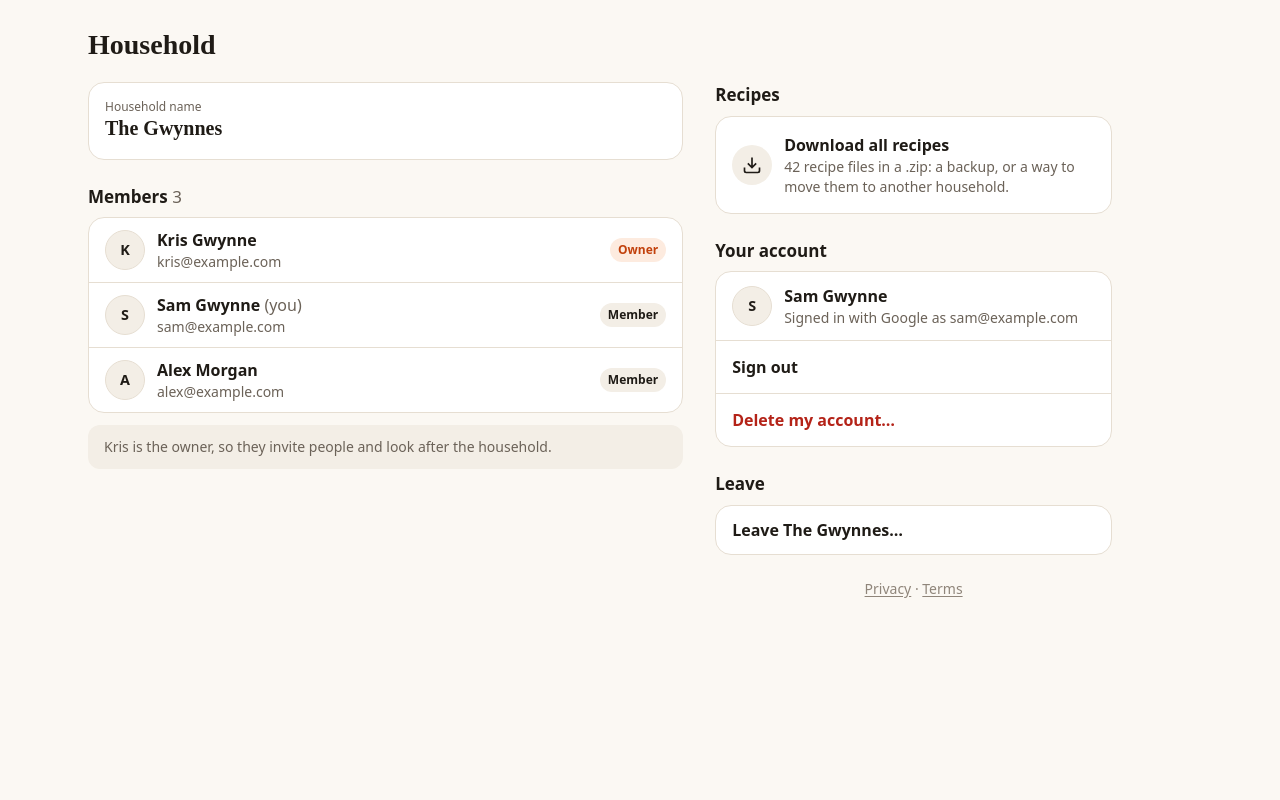
Test: as a member (design C, H) › says so when leaving fails
Click the button "Leave The Gwynnes…" at [758, 530], box [716, 506, 1111, 554]
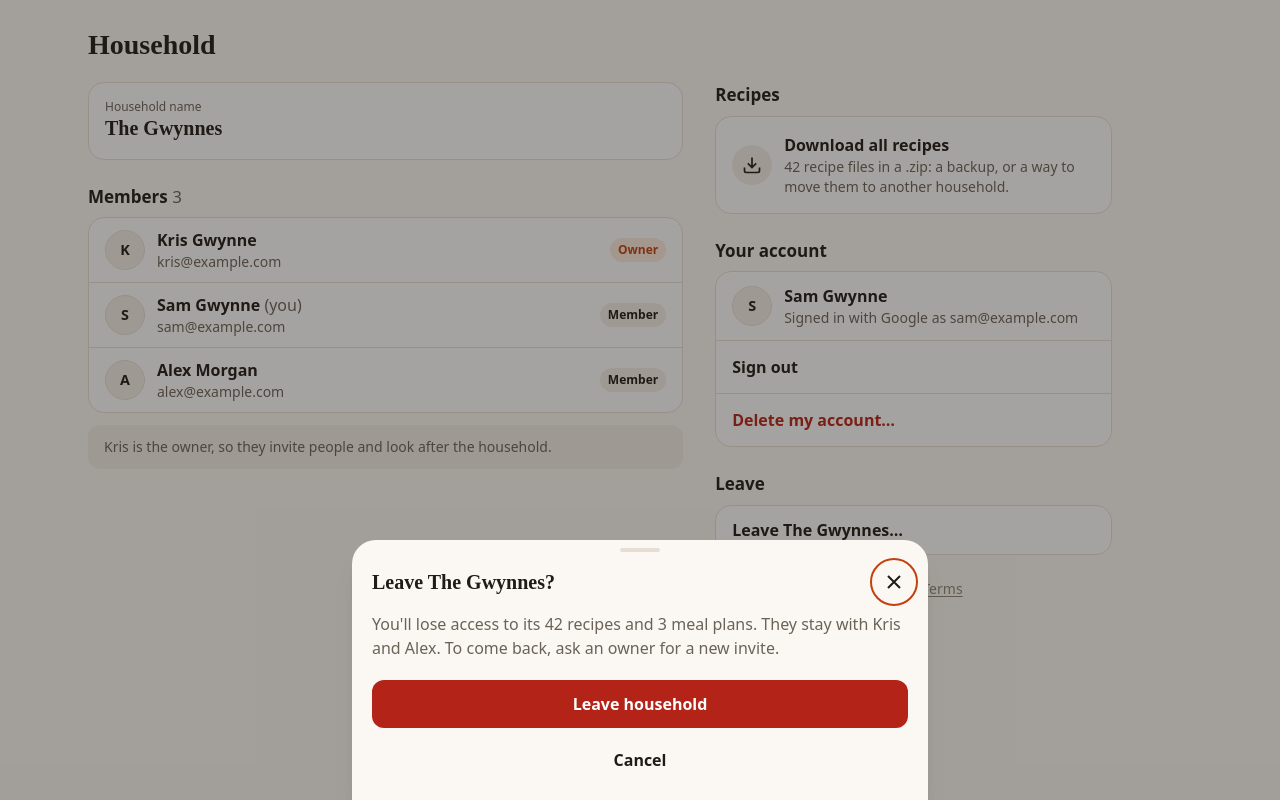
Click the button "Leave household" at [640, 704], box [372, 680, 908, 728]
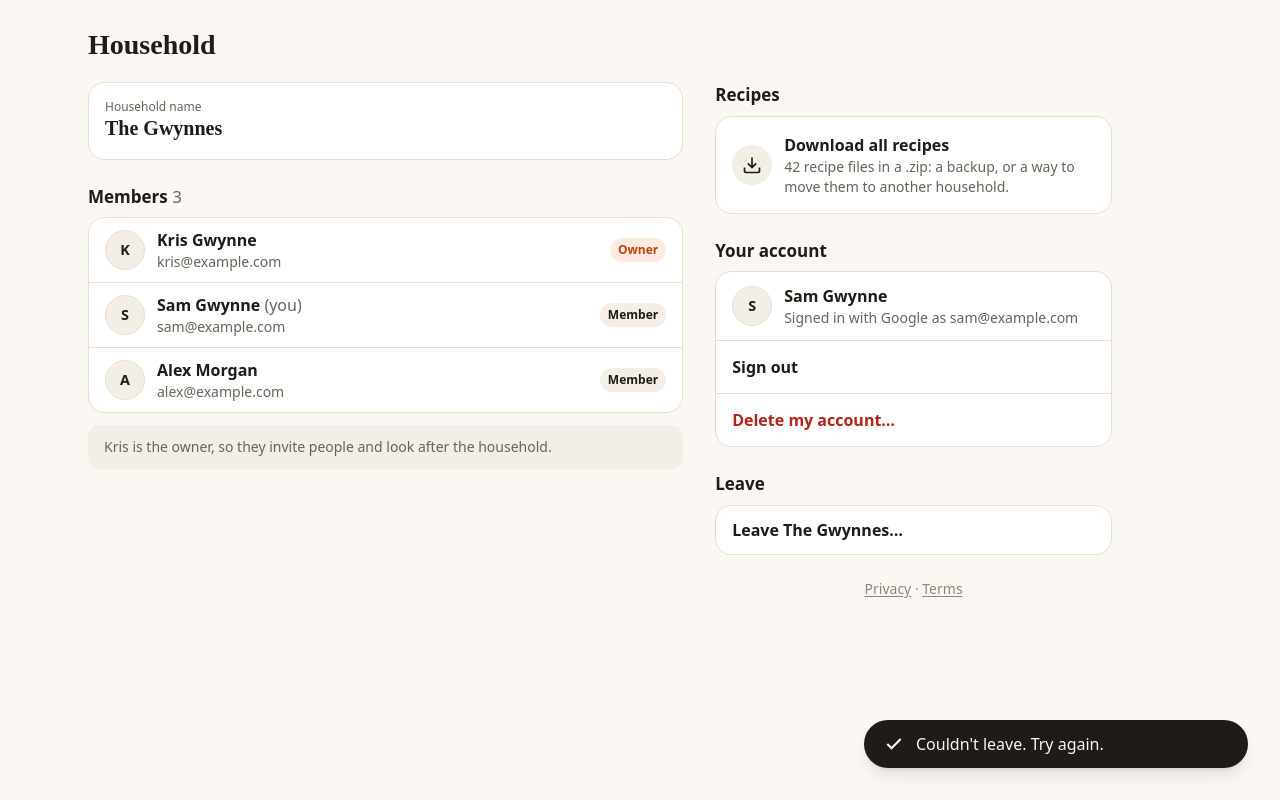
expect the message reads "Couldn't leave. Try again.": met, box [916, 733, 1104, 755]
